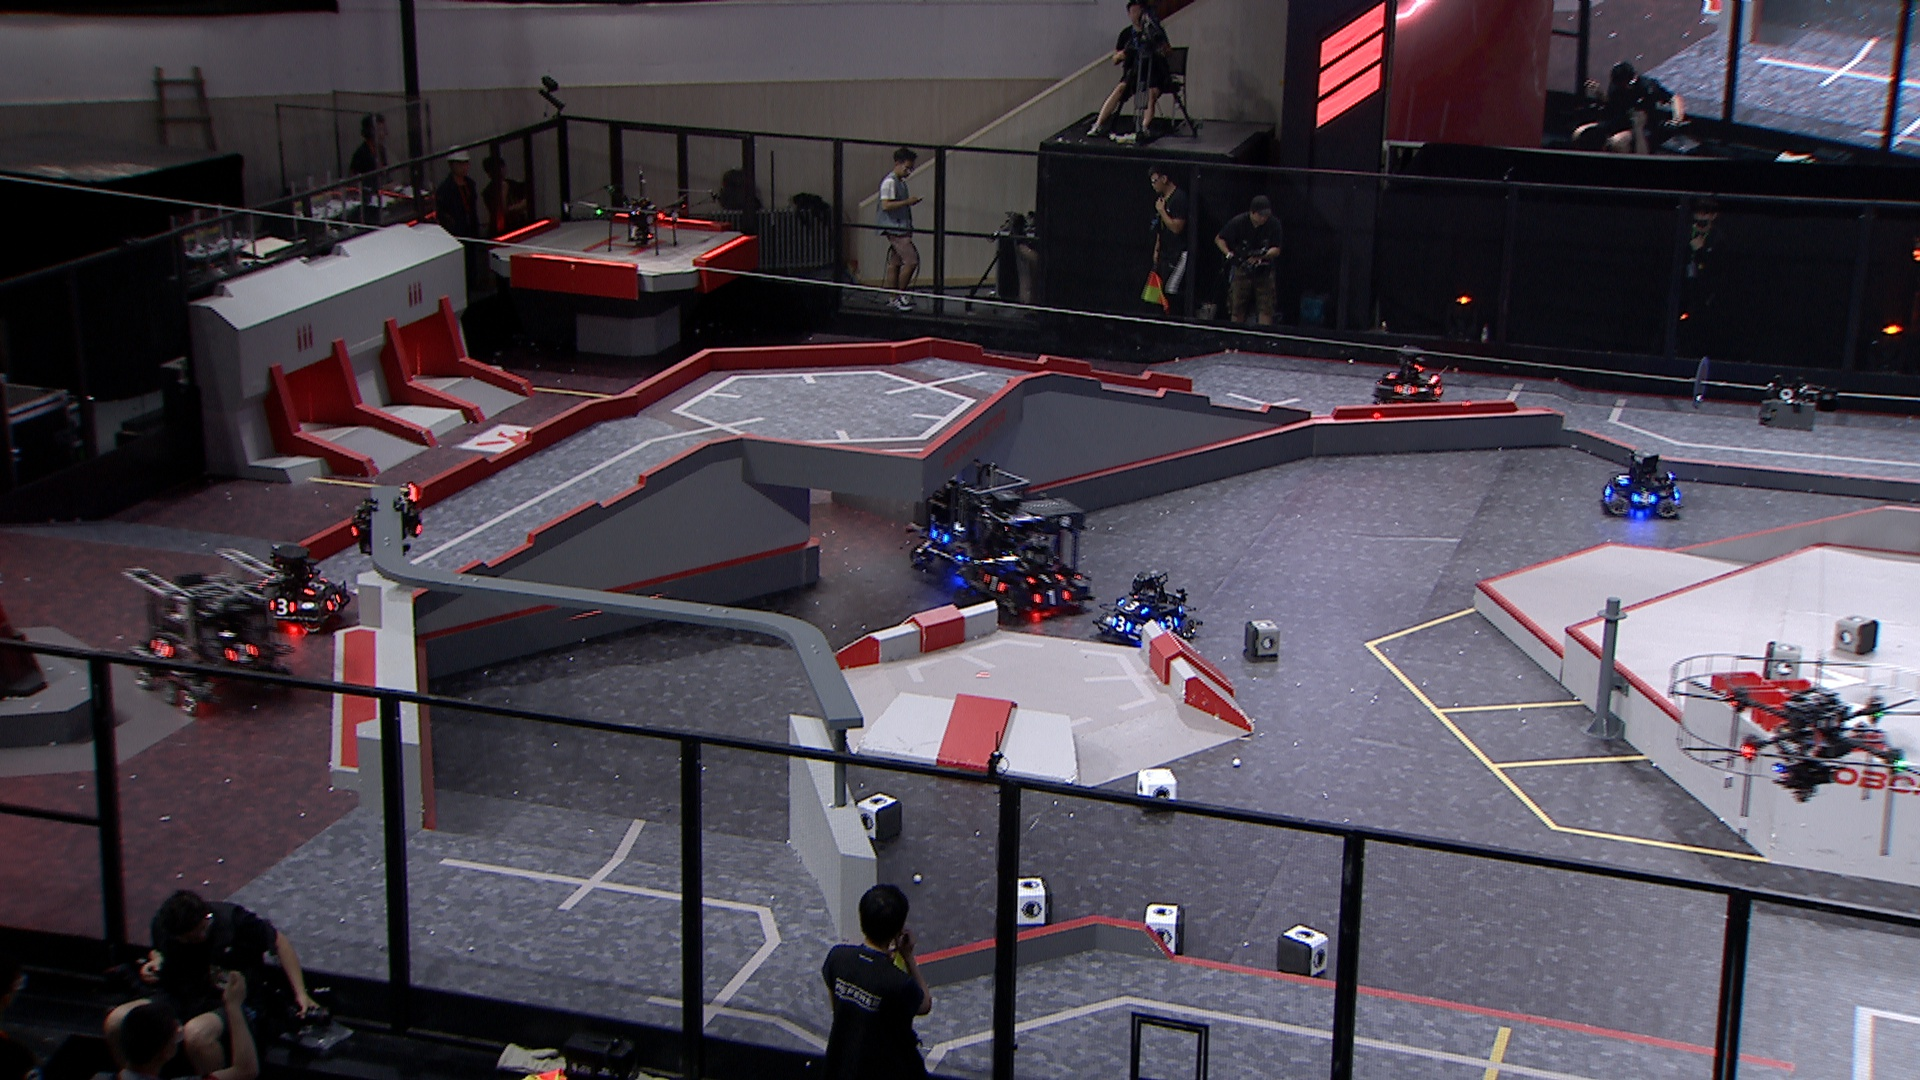armor: (228, 640, 256, 665), (981, 570, 1007, 593), (146, 636, 171, 659), (1035, 588, 1069, 605), (268, 597, 295, 616), (924, 524, 948, 545), (1029, 571, 1063, 585), (306, 575, 328, 593), (1121, 599, 1147, 613), (1394, 381, 1418, 396), (1160, 613, 1179, 632), (1110, 616, 1130, 633), (1629, 491, 1654, 504), (327, 591, 342, 613), (1613, 469, 1629, 488), (1433, 381, 1447, 396), (1382, 367, 1396, 378)
car: (120, 547, 299, 713), (964, 495, 1097, 624), (906, 462, 1026, 595), (245, 543, 356, 633), (1097, 567, 1197, 651), (1600, 448, 1683, 520), (1367, 345, 1449, 413)
watcher: (342, 485, 430, 560)
